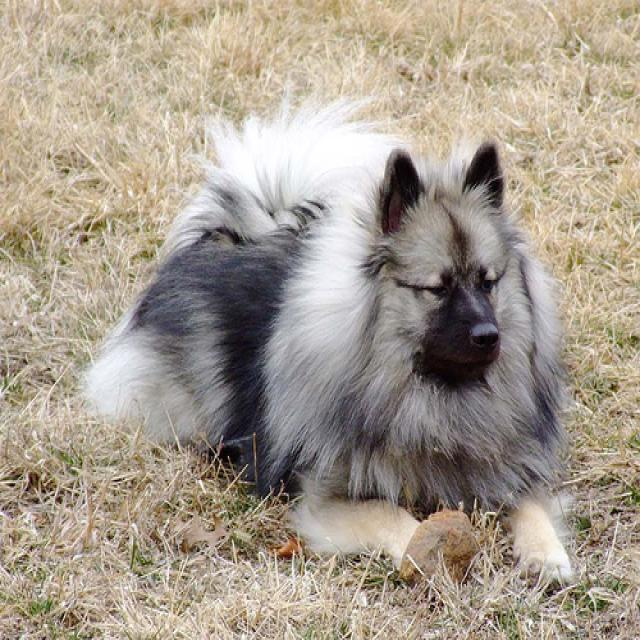dog-keeshond: (82, 99, 570, 582)
